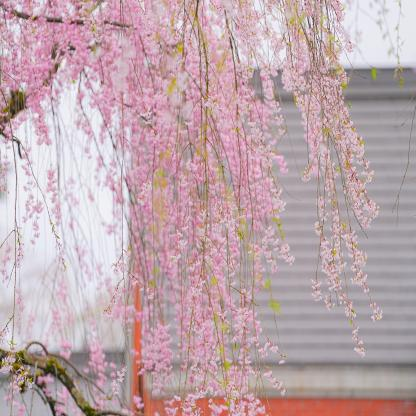ShidareZakura: (0, 0, 382, 416)
